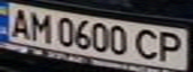0: (51, 15, 75, 47), (109, 24, 130, 56), (90, 20, 109, 53)
6: (72, 18, 93, 51)
A: (3, 6, 33, 39)
C: (133, 26, 163, 61)
M: (24, 9, 54, 43)
P: (154, 29, 190, 63)
